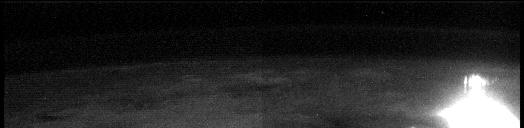positive: (459, 71, 496, 94)
